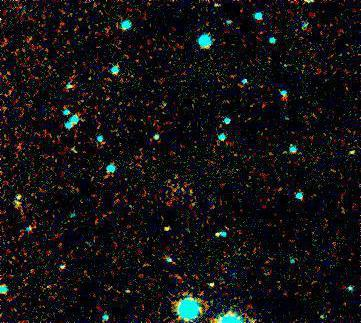star: (152, 217, 182, 247)
